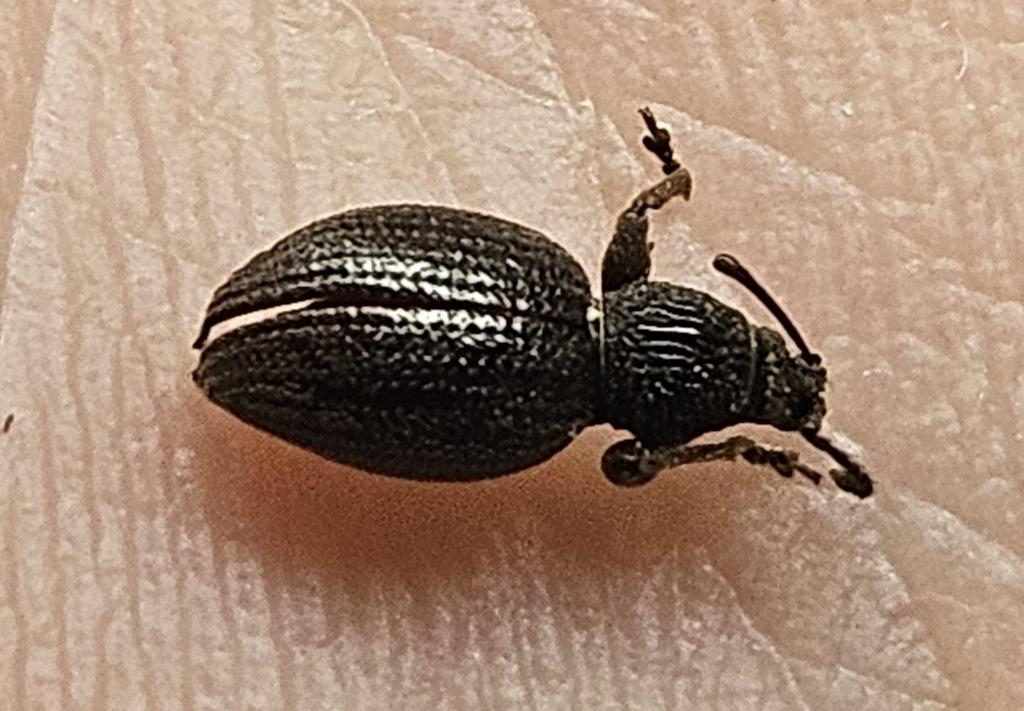weevils: (147, 66, 944, 600)
